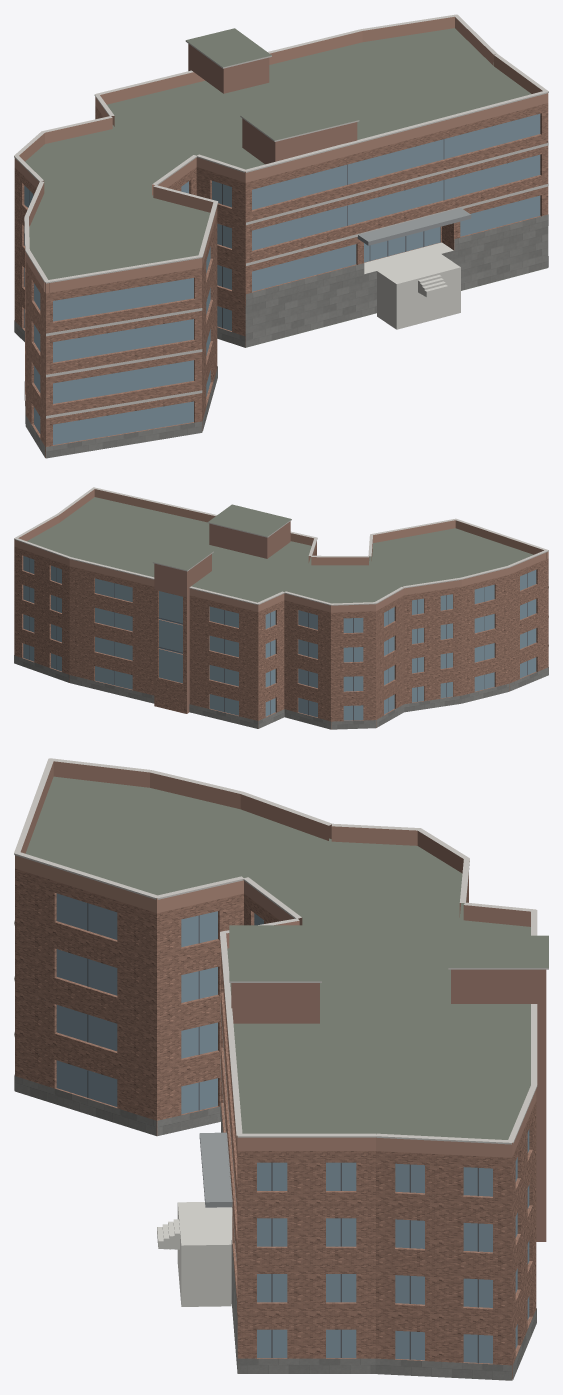
3 renders of one model, top to bottom at view 1: azimuth 30°, elevation 25°; view 2: azimuth 150°, elevation 25°; view 3: azimuth 270°, elevation 25°, orthographic. The views are drawn at different scales.
Parts seen in each view (by area): view 1: b129__roof, b129__wall, b129__glass, b129__base, b129__parapet, b129__trim, b129__entranceStair, b129__wall2, b129__canopy; view 2: b129__wall, b129__roof, b129__glass, b129__parapet, b129__base, b129__wall2, b129__trim, b129__frame; view 3: b129__roof, b129__wall, b129__glass, b129__parapet, b129__wall2, b129__trim, b129__base, b129__entranceStair, b129__canopy, b129__frame.
Part boxes in pixels (bbox=[...]): b129__roof: bbox=[25, 28, 547, 347]; b129__wall: bbox=[14, 103, 548, 457]; b129__glass: bbox=[24, 114, 540, 444]; b129__base: bbox=[14, 214, 548, 458]; b129__parapet: bbox=[14, 16, 548, 293]; b129__trim: bbox=[14, 14, 548, 418]; b129__entranceStair: bbox=[364, 242, 460, 329]; b129__wall2: bbox=[188, 44, 357, 164]; b129__canopy: bbox=[357, 207, 471, 245]; b129__wall: bbox=[14, 546, 548, 729]; b129__roof: bbox=[27, 497, 533, 603]; b129__glass: bbox=[23, 556, 536, 720]; b129__parapet: bbox=[14, 489, 548, 612]; b129__base: bbox=[14, 655, 548, 729]; b129__wall2: bbox=[154, 521, 290, 713]; b129__trim: bbox=[14, 487, 548, 646]; b129__frame: bbox=[29, 558, 527, 720]; b129__roof: bbox=[25, 776, 548, 1380]; b129__wall: bbox=[15, 868, 536, 1379]; b129__glass: bbox=[56, 893, 529, 1363]; b129__parapet: bbox=[15, 761, 536, 1157]; b129__wall2: bbox=[231, 969, 546, 1241]; b129__trim: bbox=[14, 758, 548, 1260]; b129__base: bbox=[14, 1074, 536, 1380]; b129__entranceStair: bbox=[157, 1202, 232, 1306]; b129__canopy: bbox=[199, 1132, 232, 1207]; b129__frame: bbox=[87, 903, 478, 1363].
Bounding box in the file's own units: 53.37 × 18.09 × 31.36.
11 materials, 2 textured.
